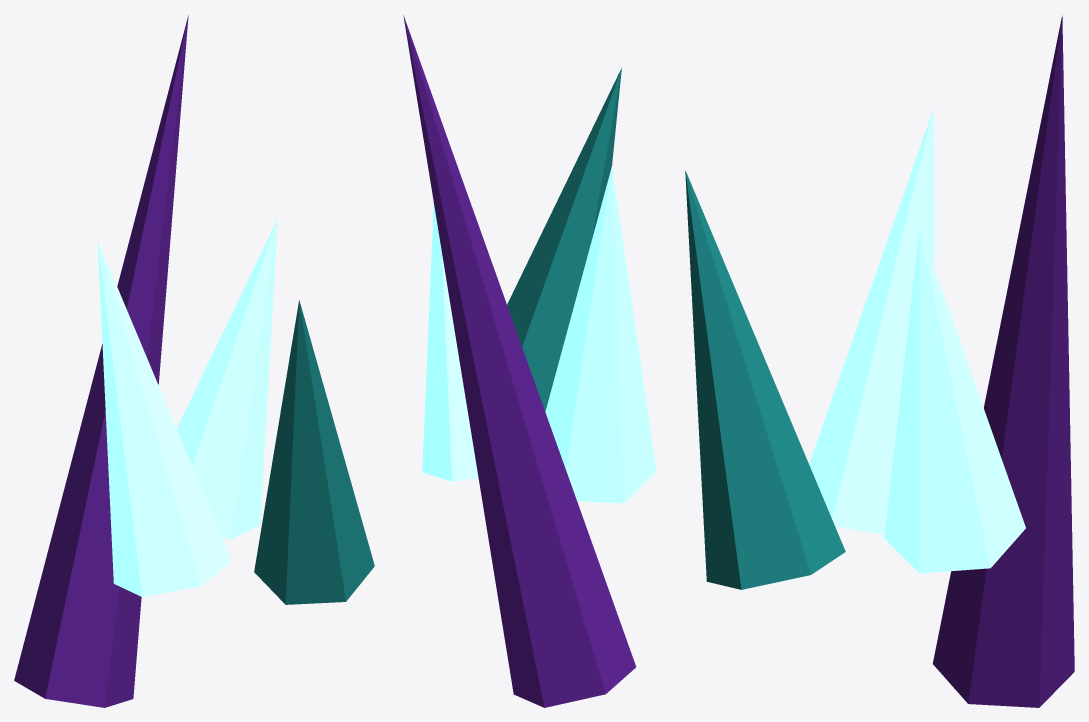
The model's file is Prop_OR_Crystal_13.glb.
3 renders of one model, left to right at view 1: azimuth 30°, elevation 25°; view 2: azimuth 150°, elevation 25°; view 3: azimuth 270°, elevation 25°, orthographic. The views are drawn at different scales.
Visible parts, largest first — view 1: Prop_OR_Crystal_13; view 2: Prop_OR_Crystal_13; view 3: Prop_OR_Crystal_13.
Part boxes in pixels (x1,y1,x2,y2): Prop_OR_Crystal_13: (14, 15, 374, 707); Prop_OR_Crystal_13: (403, 15, 656, 707); Prop_OR_Crystal_13: (685, 15, 1074, 707).
Size of the model in its own units: 0.5595 by 1.45 by 0.6838.
